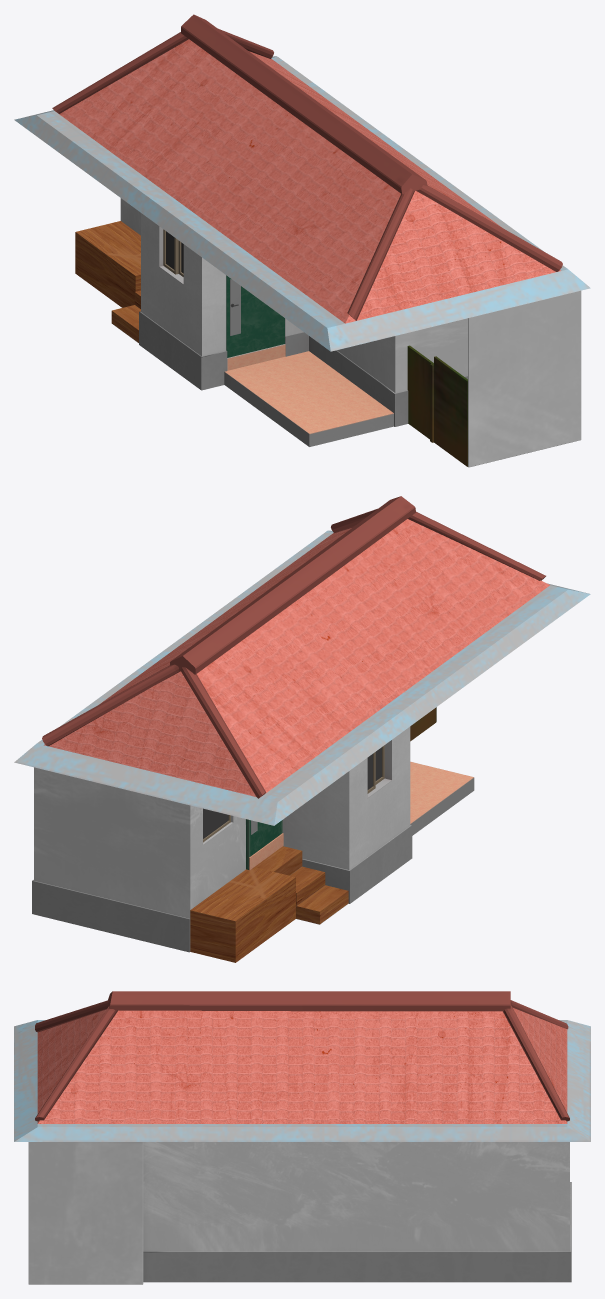
File: OutRoom.fbx
The picture shows the model from 3 angles, top to bottom: view 1: azimuth 30°, elevation 25°; view 2: azimuth 150°, elevation 25°; view 3: azimuth 270°, elevation 25°; orthographic projection. The views are drawn at different scales.
Parts seen in each view (by area): view 1: OutRoom2, TOP; view 2: OutRoom2, TOP; view 3: OutRoom2, TOP.
Boxes of the visible parts, x1=… form: OutRoom2: x1=14, y1=14, x2=590, y2=467; TOP: x1=55, y1=39, x2=560, y2=323; OutRoom2: x1=14, y1=496, x2=590, y2=962; TOP: x1=44, y1=519, x2=549, y2=796; OutRoom2: x1=14, y1=991, x2=590, y2=1284; TOP: x1=37, y1=1009, x2=566, y2=1123.
Bounding box in the file's own units: 1006 × 968 × 2121.
